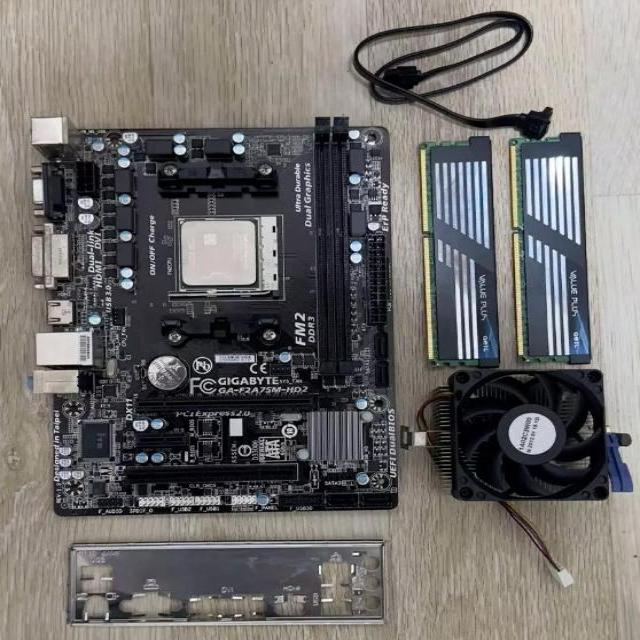CPU: (180, 220, 258, 287)
CPU_Fan: (450, 369, 610, 502)
RAM: (508, 136, 592, 363), (418, 140, 501, 368)
